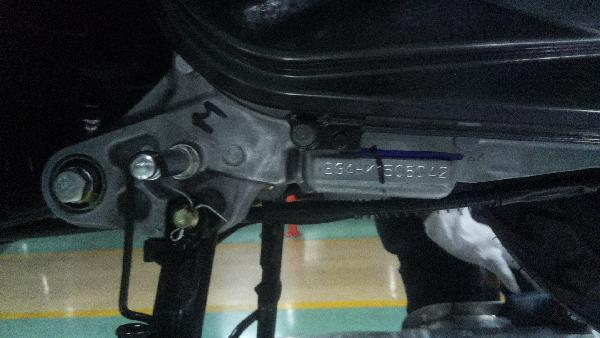box: (323, 160, 449, 182)
